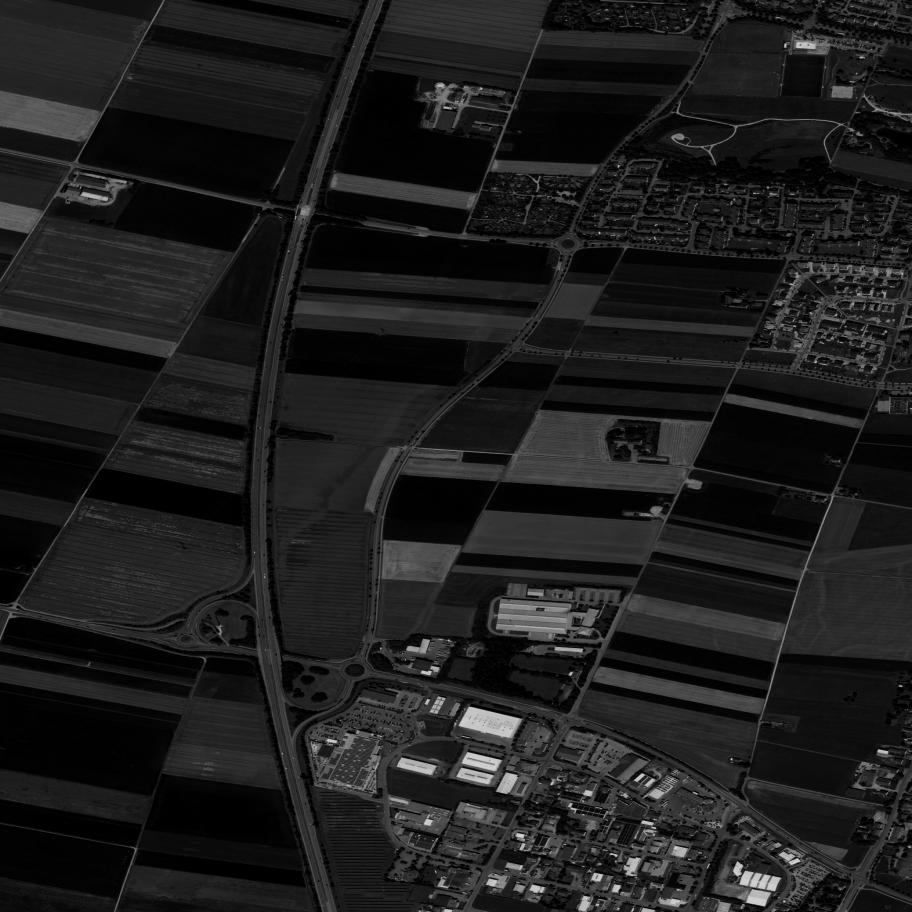large-vehicle: (402, 658, 403, 660), (398, 657, 399, 659), (401, 658, 401, 659)
small-vehicle: (316, 192, 318, 194), (68, 201, 69, 201)
